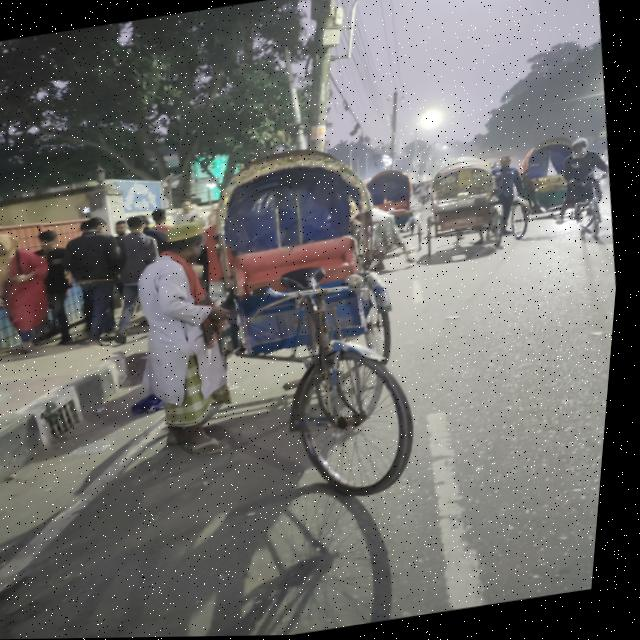rikshaw: (125, 141, 452, 566)
